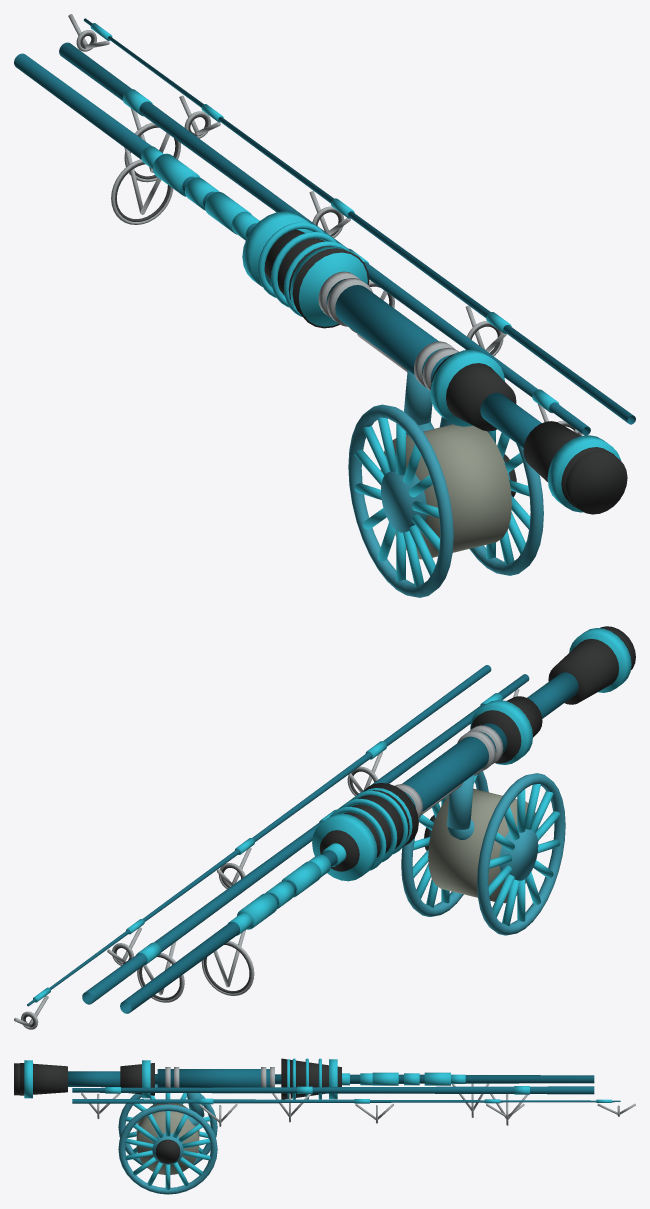
Rendered from kingfisher_fly_folded.glb.
3 views of the same model, one above another, from view 1: azimuth 30°, elevation 25°; view 2: azimuth 150°, elevation 25°; view 3: azimuth 270°, elevation 25° (orthographic). The views are drawn at different scales.
Visible parts, largest first — view 1: Folded rod; view 2: Folded rod; view 3: Folded rod.
Part boxes in pixels (<box>): Folded rod: <box>14,14,635,597</box>; Folded rod: <box>14,626,635,1029</box>; Folded rod: <box>14,1058,635,1194</box>.
Bounding box in the file's own units: 0.1067 × 0.156 × 0.7147.
